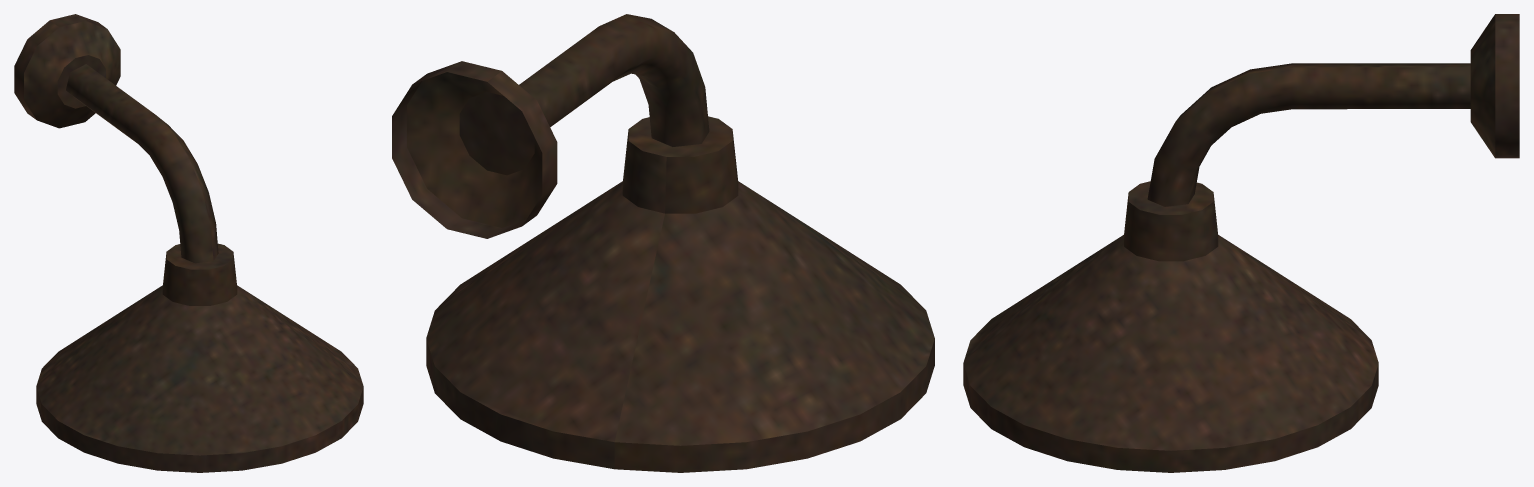
File: lamp_mx_2_off.dae
3 views of the same model, side by side, from view 1: azimuth 30°, elevation 25°; view 2: azimuth 150°, elevation 25°; view 3: azimuth 270°, elevation 25° (orthographic). The views are drawn at different scales.
Parts seen in each view (by area): view 1: lamp_mx_2_off; view 2: lamp_mx_2_off; view 3: lamp_mx_2_off.
Part boxes in pixels (<box>): lamp_mx_2_off: <box>14,14,363,472</box>; lamp_mx_2_off: <box>392,14,934,472</box>; lamp_mx_2_off: <box>963,14,1519,472</box>.
Bounding box in the file's own units: 0.357 × 0.478 × 0.3682.
2 materials, 2 textured.
